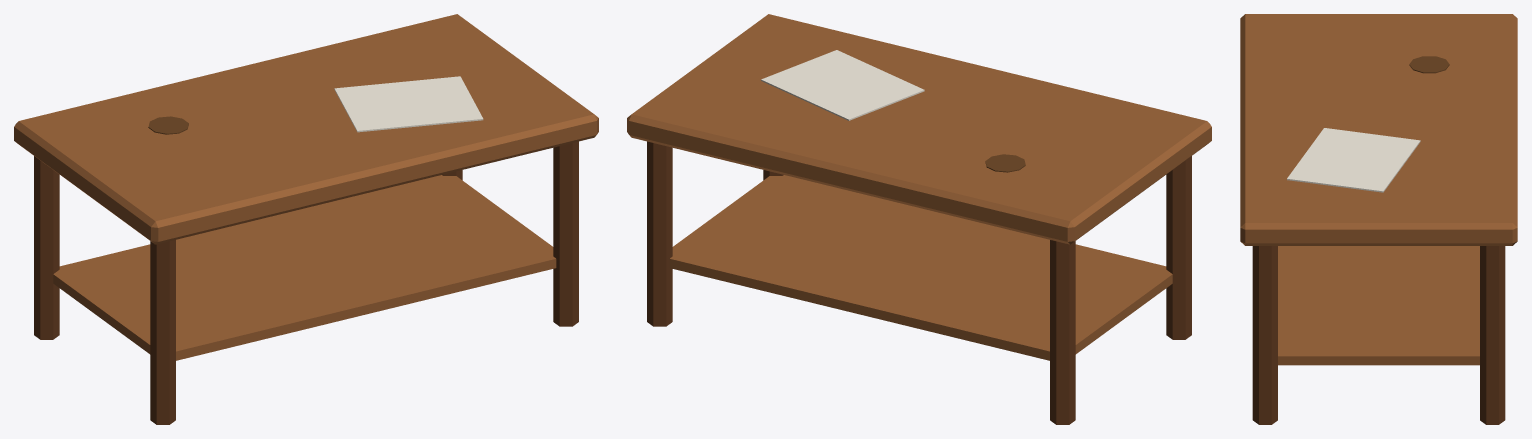
Rendered from coffeeTable.fbx.
3 renders of one model, left to right at view 1: azimuth 30°, elevation 25°; view 2: azimuth 150°, elevation 25°; view 3: azimuth 270°, elevation 25°, orthographic. The views are drawn at different scales.
Visible parts, largest first — view 1: coffeeTable; view 2: coffeeTable; view 3: coffeeTable.
Boxes of the visible parts, x1=… form: coffeeTable: x1=14, y1=14, x2=598, y2=424; coffeeTable: x1=627, y1=14, x2=1211, y2=424; coffeeTable: x1=1240, y1=14, x2=1517, y2=424.
Size of the model in its own units: 4 by 1.81 by 2.2.
